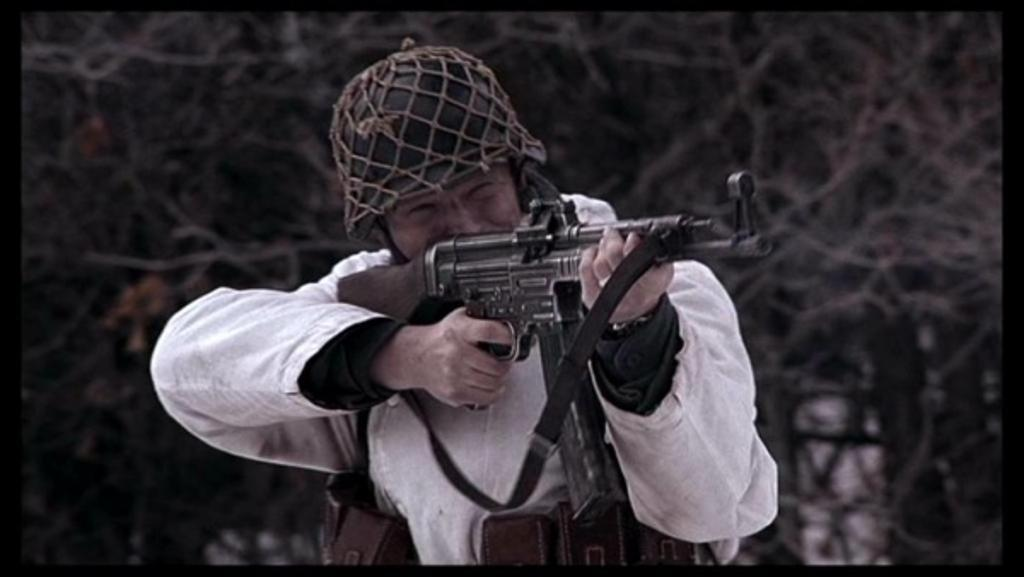face: (391, 159, 527, 293)
